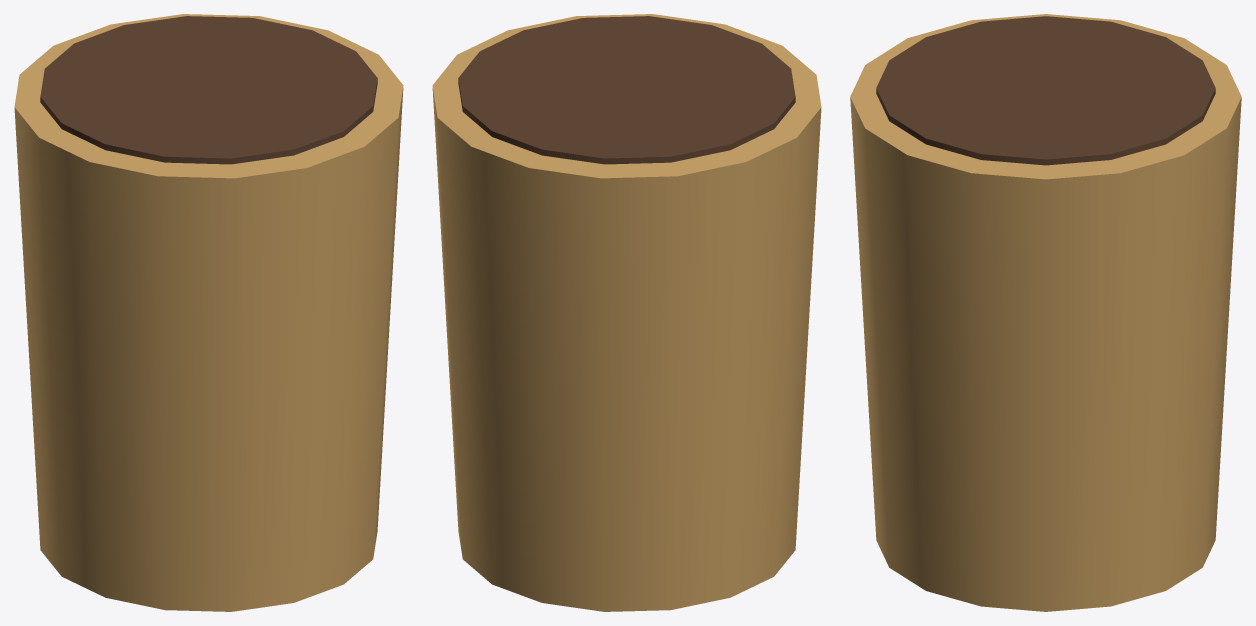
File: cup.glb
3 renders of one model, left to right at view 1: azimuth 30°, elevation 25°; view 2: azimuth 150°, elevation 25°; view 3: azimuth 270°, elevation 25°, orthographic.
Parts seen in each view (by area): view 1: prop_cup; view 2: prop_cup; view 3: prop_cup.
Part boxes in pixels (x1,y1,x2,y2): prop_cup: (14, 14, 403, 611); prop_cup: (432, 14, 821, 611); prop_cup: (850, 14, 1241, 611).
Size of the model in its own units: 0.06 by 0.0765 by 0.06.
